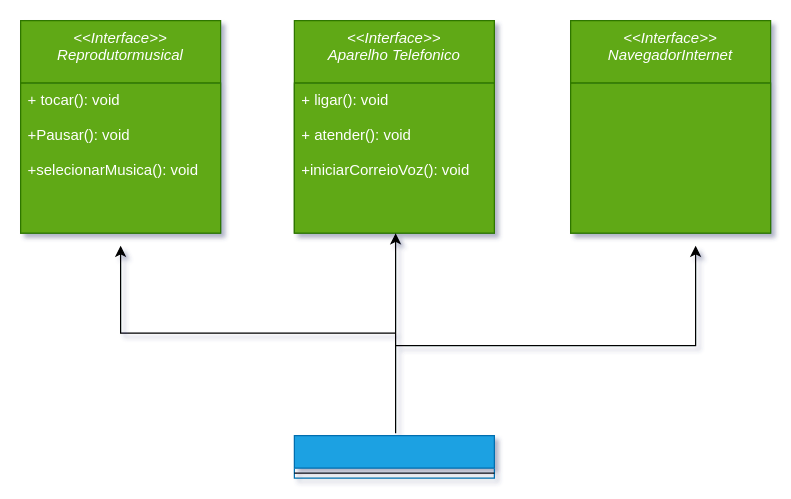
The diagram is 791 pixels wide and 499 high, and some of its shapes have lost their labels. Here are the shapes that lost their labels. From the top down, the centre of each, then its label:
At point 670,157: "+ exibirPagina(): Void +adicionarNovaAba(): void +atualizarPagina(): void".
At point 393,456: "Iphone".
